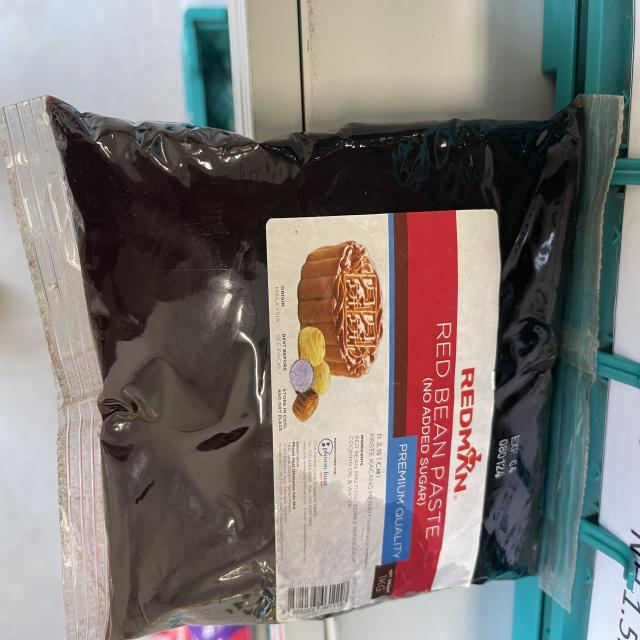object_name: (40, 123, 578, 592)
